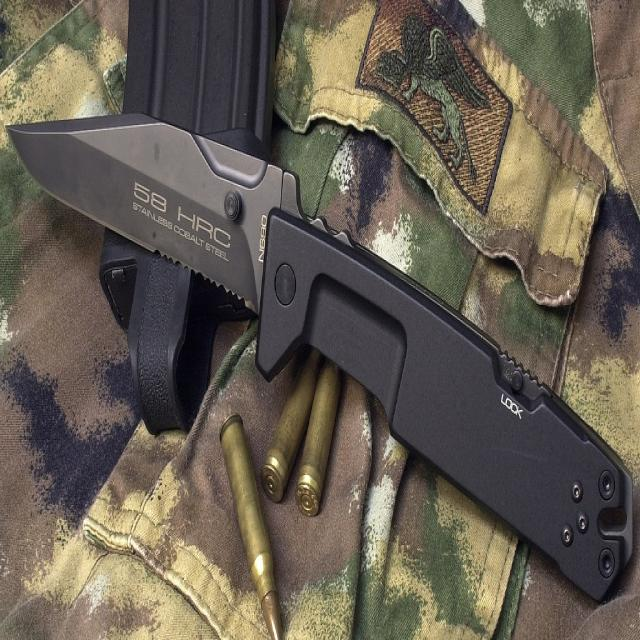knife: (4, 93, 637, 619)
